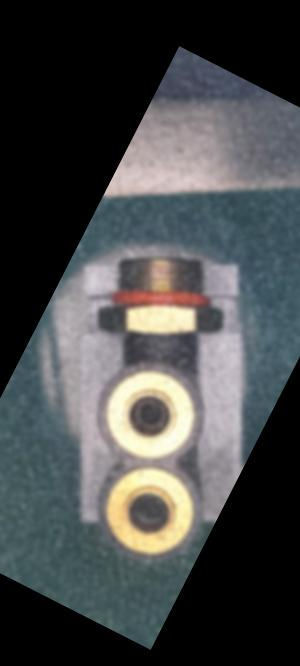joint line: (138, 332, 155, 352)
